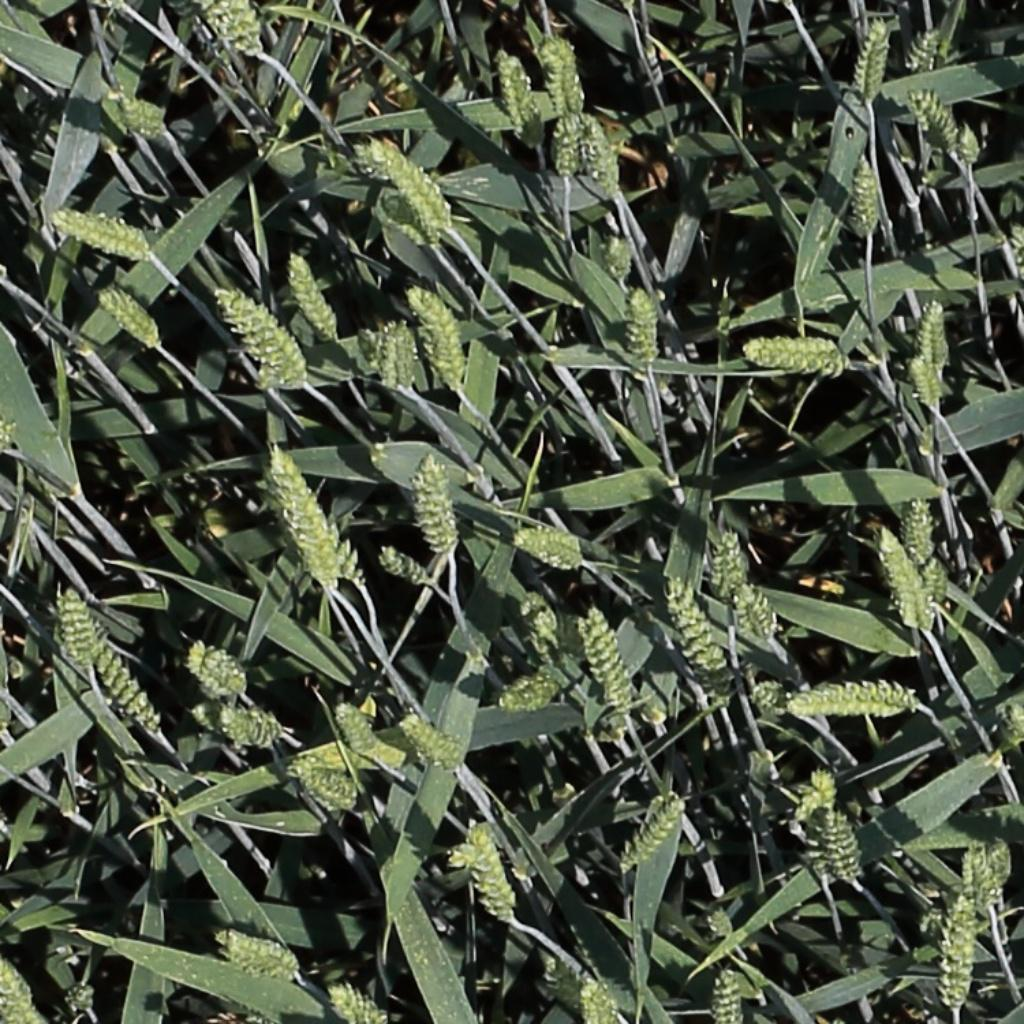0-0: (273, 466, 365, 586), (218, 283, 307, 389), (270, 447, 339, 583), (80, 637, 166, 740), (664, 572, 733, 699), (46, 203, 159, 268), (872, 524, 930, 636), (577, 601, 631, 717), (618, 793, 692, 877), (410, 283, 468, 387), (285, 245, 344, 346), (737, 333, 857, 382), (466, 820, 518, 925), (933, 891, 977, 1010), (578, 105, 626, 197), (495, 46, 539, 143), (103, 87, 175, 146), (96, 285, 162, 348), (907, 83, 965, 154), (512, 523, 589, 576), (542, 35, 585, 124), (853, 13, 894, 106), (377, 191, 443, 247), (420, 451, 453, 561), (185, 640, 245, 700), (734, 577, 783, 649), (401, 715, 465, 770), (58, 587, 96, 679), (824, 806, 865, 891), (491, 674, 568, 719), (203, 1, 262, 57), (896, 489, 935, 573), (662, 203, 701, 285), (333, 697, 380, 765), (294, 763, 359, 811), (791, 767, 839, 831), (552, 100, 586, 189), (222, 932, 297, 972), (0, 947, 36, 1024), (630, 281, 660, 372), (212, 708, 278, 749), (918, 292, 948, 382), (514, 596, 556, 660), (906, 19, 947, 84), (963, 841, 995, 921), (907, 349, 946, 413), (976, 841, 1010, 912), (719, 524, 748, 607), (856, 150, 882, 240), (387, 312, 415, 395), (378, 547, 432, 587), (329, 985, 385, 1022), (711, 966, 746, 1024), (581, 970, 617, 1024), (751, 677, 795, 719), (604, 226, 634, 286), (922, 552, 948, 618), (985, 836, 1013, 897), (707, 902, 741, 948), (957, 116, 985, 171), (992, 700, 1024, 747), (62, 978, 96, 1017)
